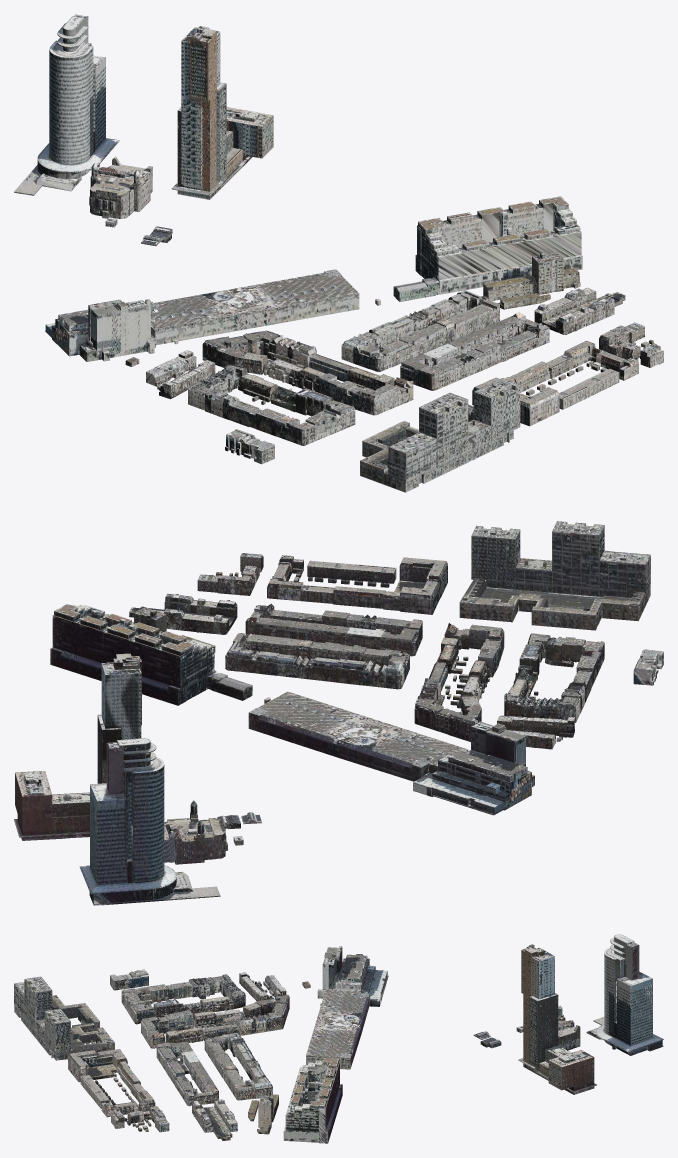
Rendered from rotterdam_rijnhaven.glb.
3 views of the same model, one above another, from view 1: azimuth 30°, elevation 25°; view 2: azimuth 150°, elevation 25°; view 3: azimuth 270°, elevation 25° (orthographic). The views are drawn at different scales.
Visible parts, largest first — view 1: CITY_MODEL; view 2: CITY_MODEL; view 3: CITY_MODEL.
Part boxes in pixels (x1=…): CITY_MODEL: x1=14, y1=14, x2=663, y2=492; CITY_MODEL: x1=14, y1=521, x2=663, y2=905; CITY_MODEL: x1=14, y1=934, x2=663, y2=1143.
Size of the model in its own units: 433 by 143 by 697.
Materials: 3 (2 with a texture image).
